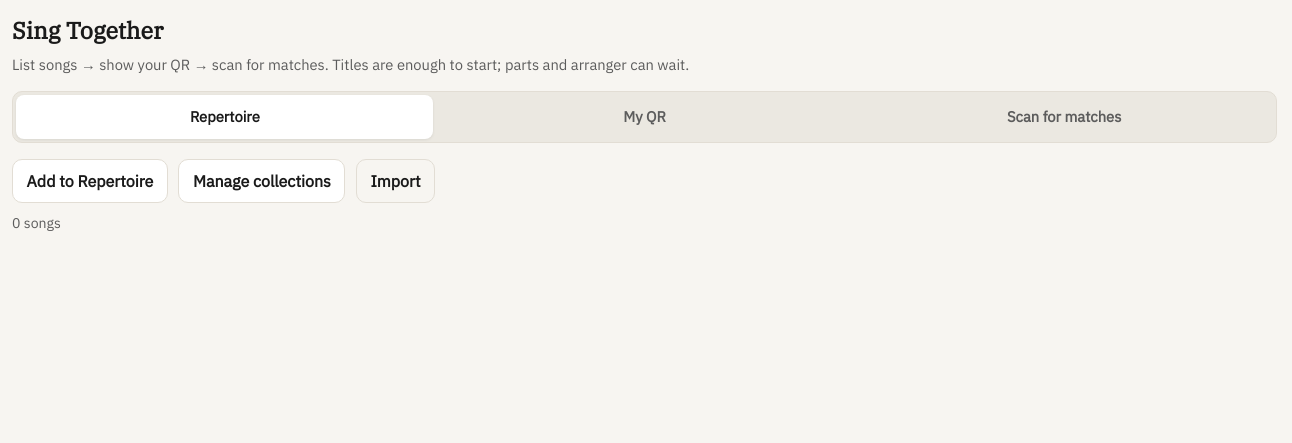
it: SingTogetherView usability phases › icon Prev / Next move Quick Add on the same row
The image size is (1292, 443).
Click the button "Add to Repertoire": (90, 181) x1=12 y1=159 x2=168 y2=203
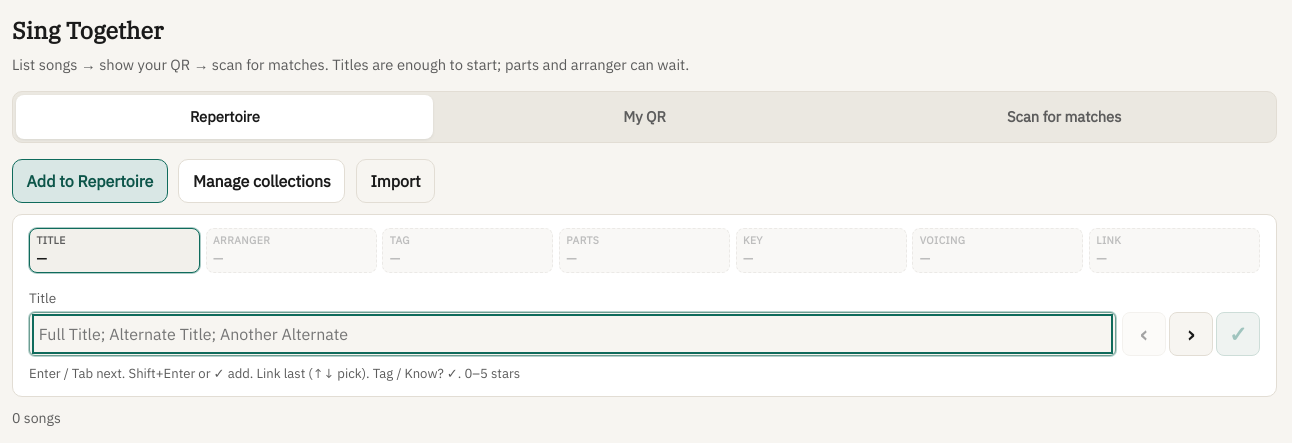
Result: the element named "Quick add song" is shown at x1=29 y1=228 x2=1260 y2=383
Result: the element showing "Title ‹ › ✓" is shown at x1=29 y1=280 x2=1260 y2=356
Result: the button named "Previous field" reads "‹" at x1=1122 y1=312 x2=1166 y2=356
In the field with placeholder "Full Title; Alternate Title; Another Alternate": (573, 334) x1=36 y1=318 x2=1109 y2=350, type "Nav Song"
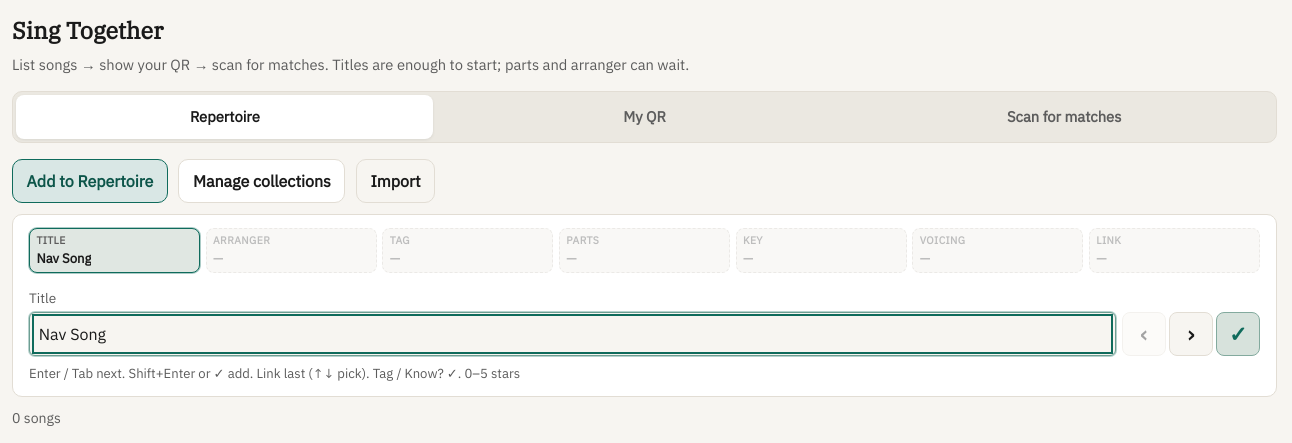
Click the button named "Next field": (1191, 334) x1=1169 y1=312 x2=1213 y2=356
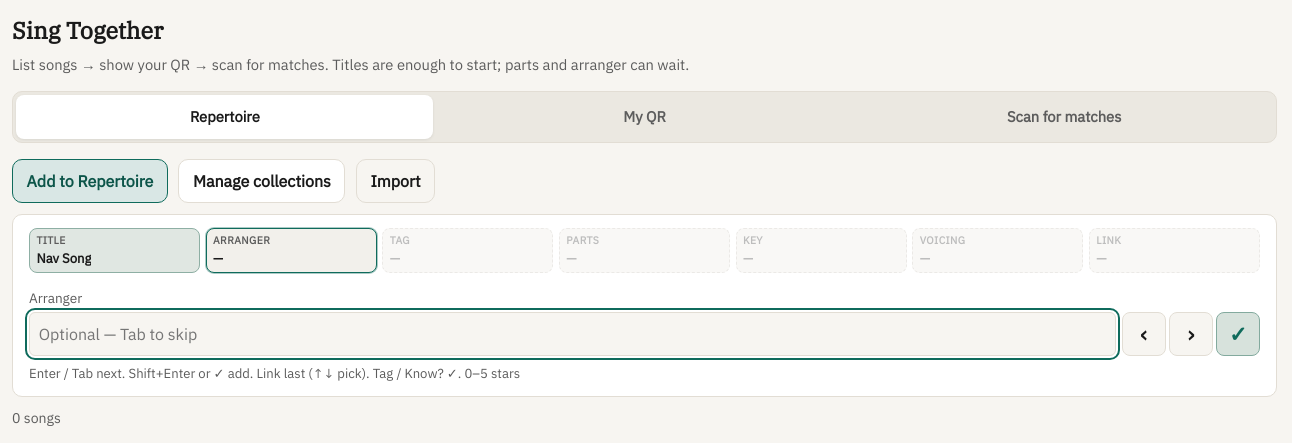
Result: the field labelled "Arranger" is shown at x1=29 y1=312 x2=1116 y2=356
Click the button named "Previous field": (1144, 334) x1=1122 y1=312 x2=1166 y2=356
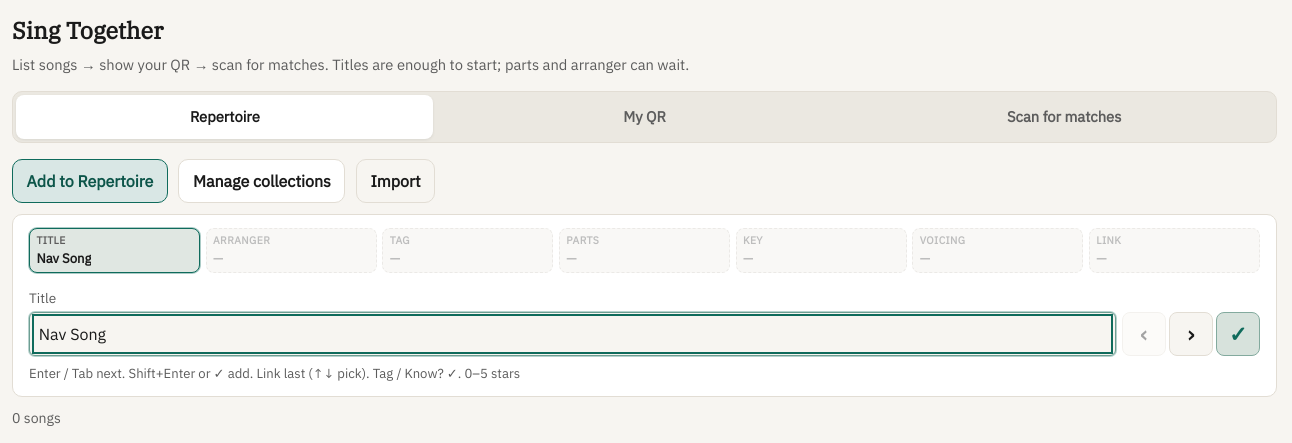
Result: the field holds "Nav Song" at x1=36 y1=318 x2=1109 y2=350
